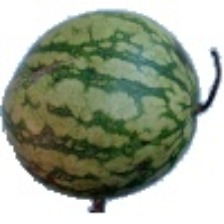watermelon: (10, 33, 204, 190)
